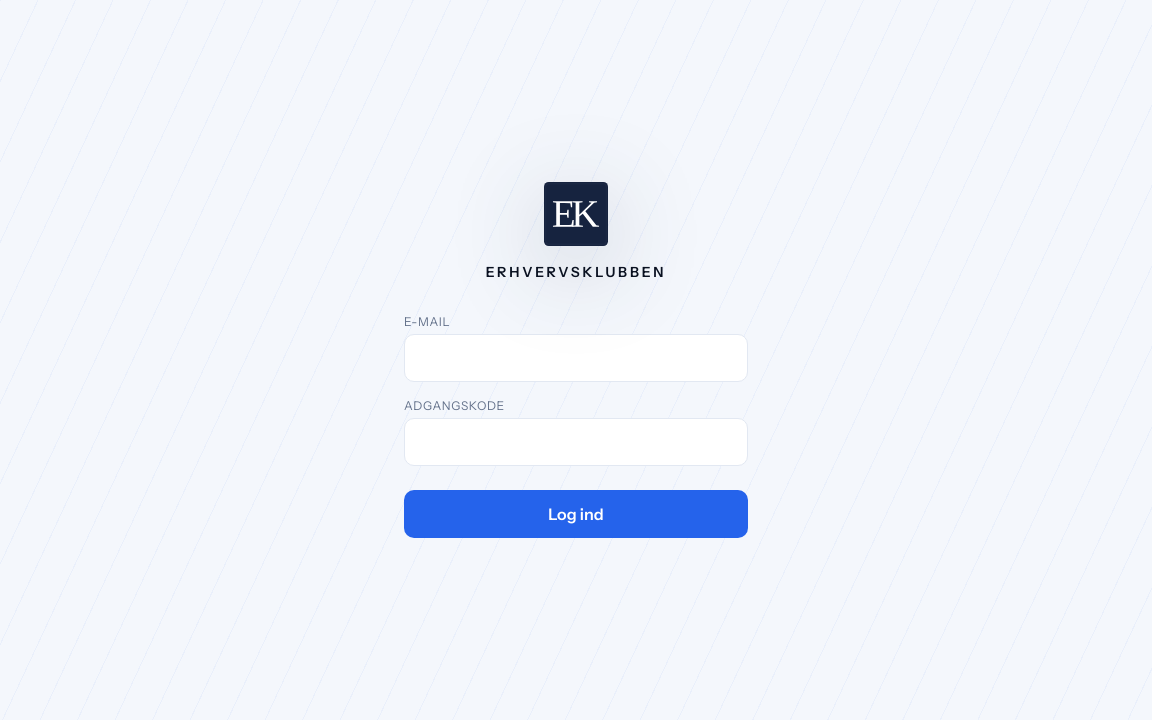
it: a wrong password says so, without revealing whether the email exists
Type "bob@test.local" into the field labelled "E-mail".
click(576, 358); type("bob@test.local")  # box [404, 334, 748, 382]
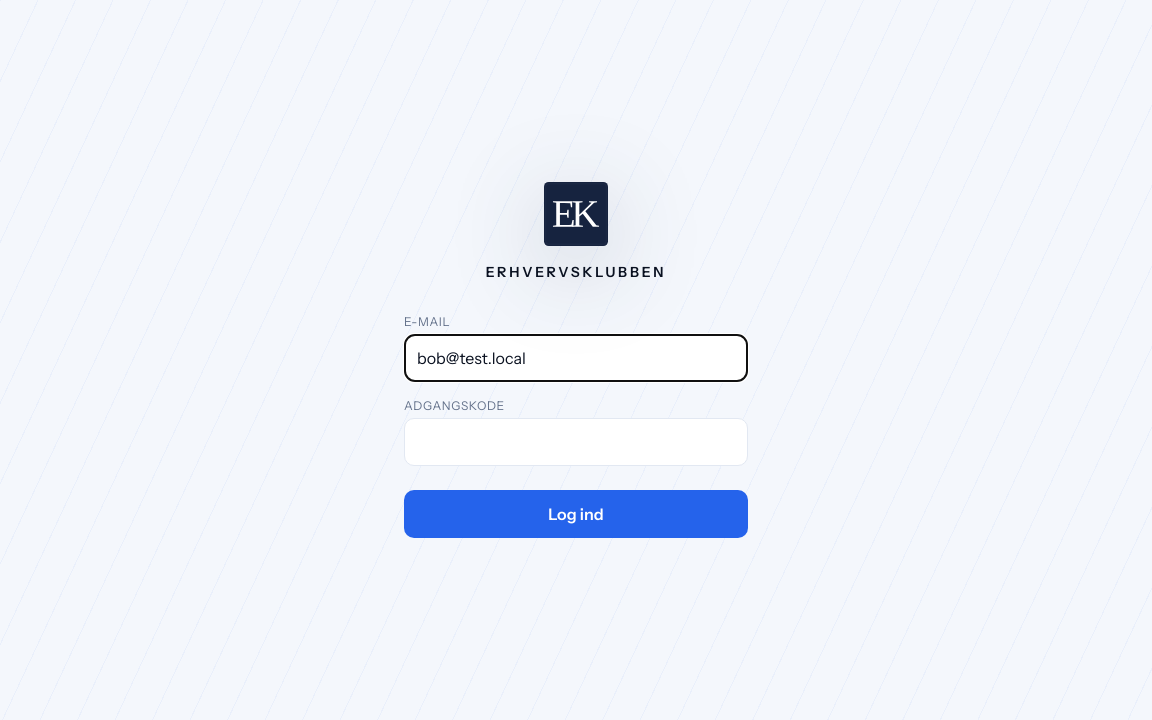
Type "wrong" into the password field labelled "Adgangskode".
click(576, 442); type("wrong")  # box [404, 418, 748, 466]
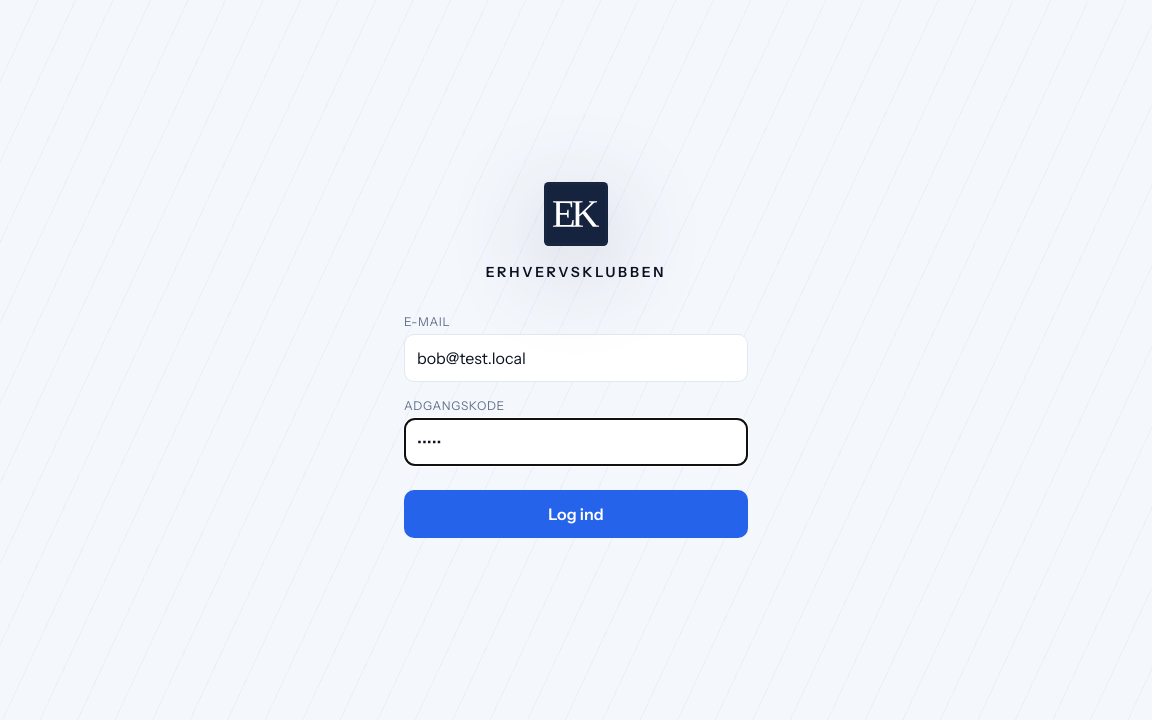
Click the button "Log ind".
click(576, 514)  # box [404, 490, 748, 538]
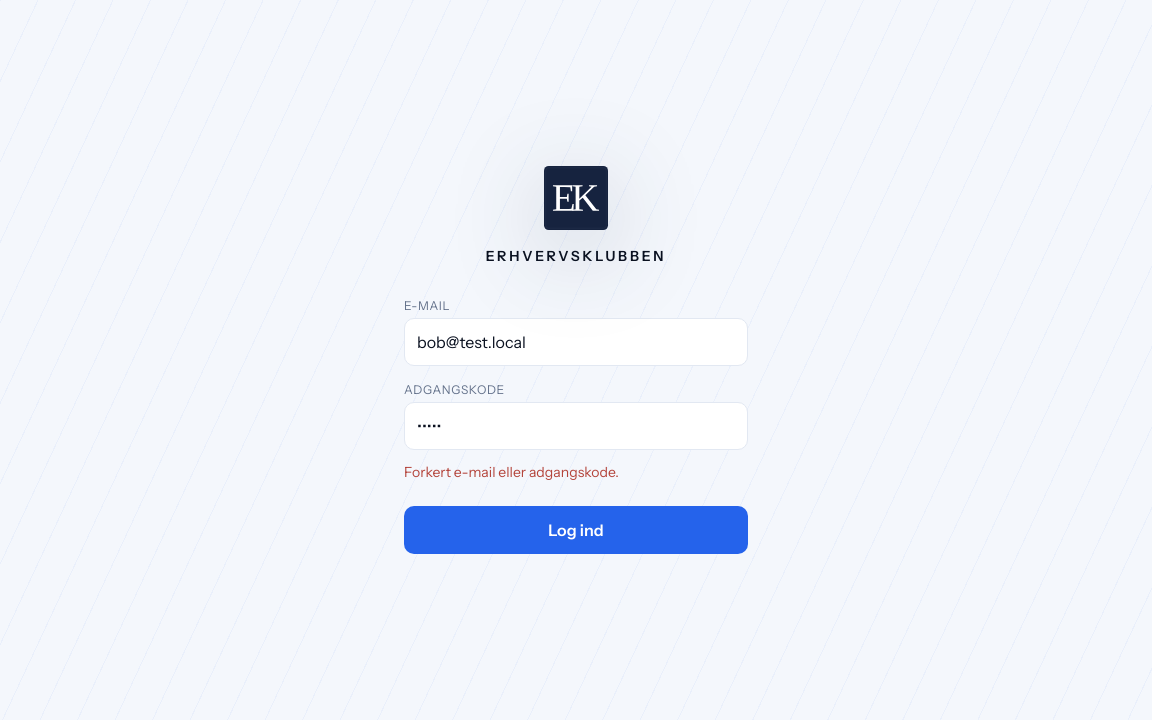
Check: the message reads "Forkert e-mail eller adgangskode.", box [404, 463, 619, 481]
